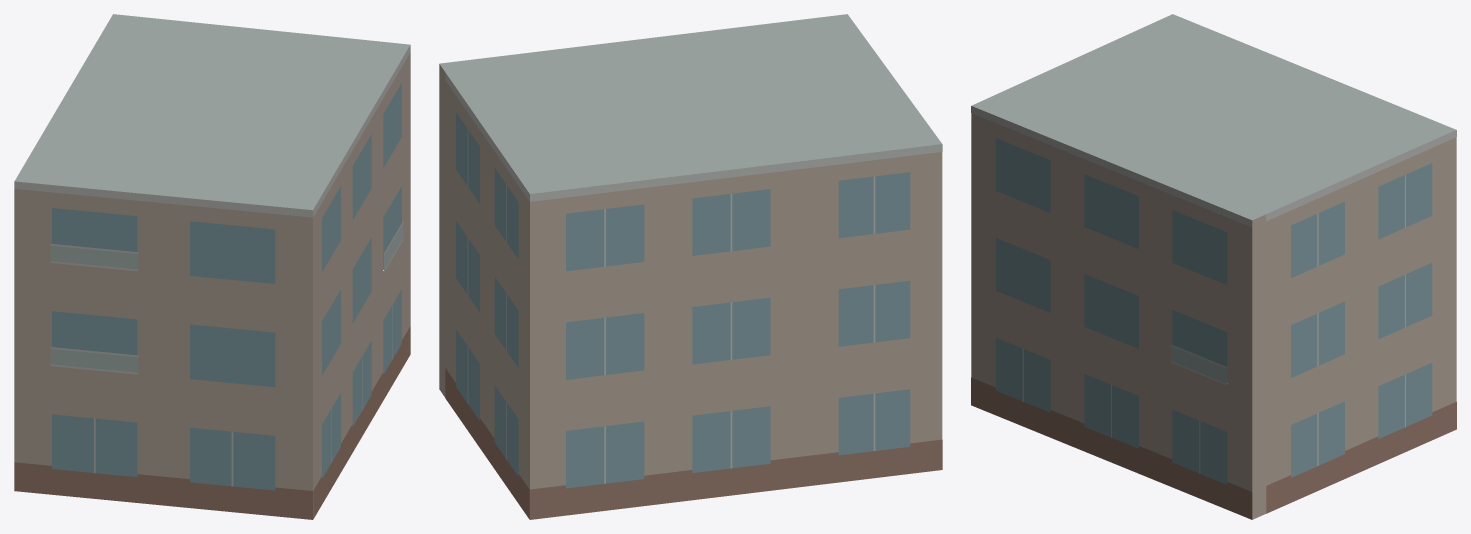
The model's file is survey-upis-32834752.glb.
3 renders of one model, left to right at view 1: azimuth 30°, elevation 25°; view 2: azimuth 150°, elevation 25°; view 3: azimuth 270°, elevation 25°, orthographic. The views are drawn at different scales.
Visible parts, largest first — view 1: survey-upis-32834752.tmp; view 2: survey-upis-32834752.tmp; view 3: survey-upis-32834752.tmp.
Part boxes in pixels (left/top/right/bottom): survey-upis-32834752.tmp: left=14, top=14, right=410, bottom=519; survey-upis-32834752.tmp: left=439, top=14, right=942, bottom=519; survey-upis-32834752.tmp: left=971, top=14, right=1456, bottom=519.
Size of the model in its own units: 15.08 by 10.2 by 14.99.
